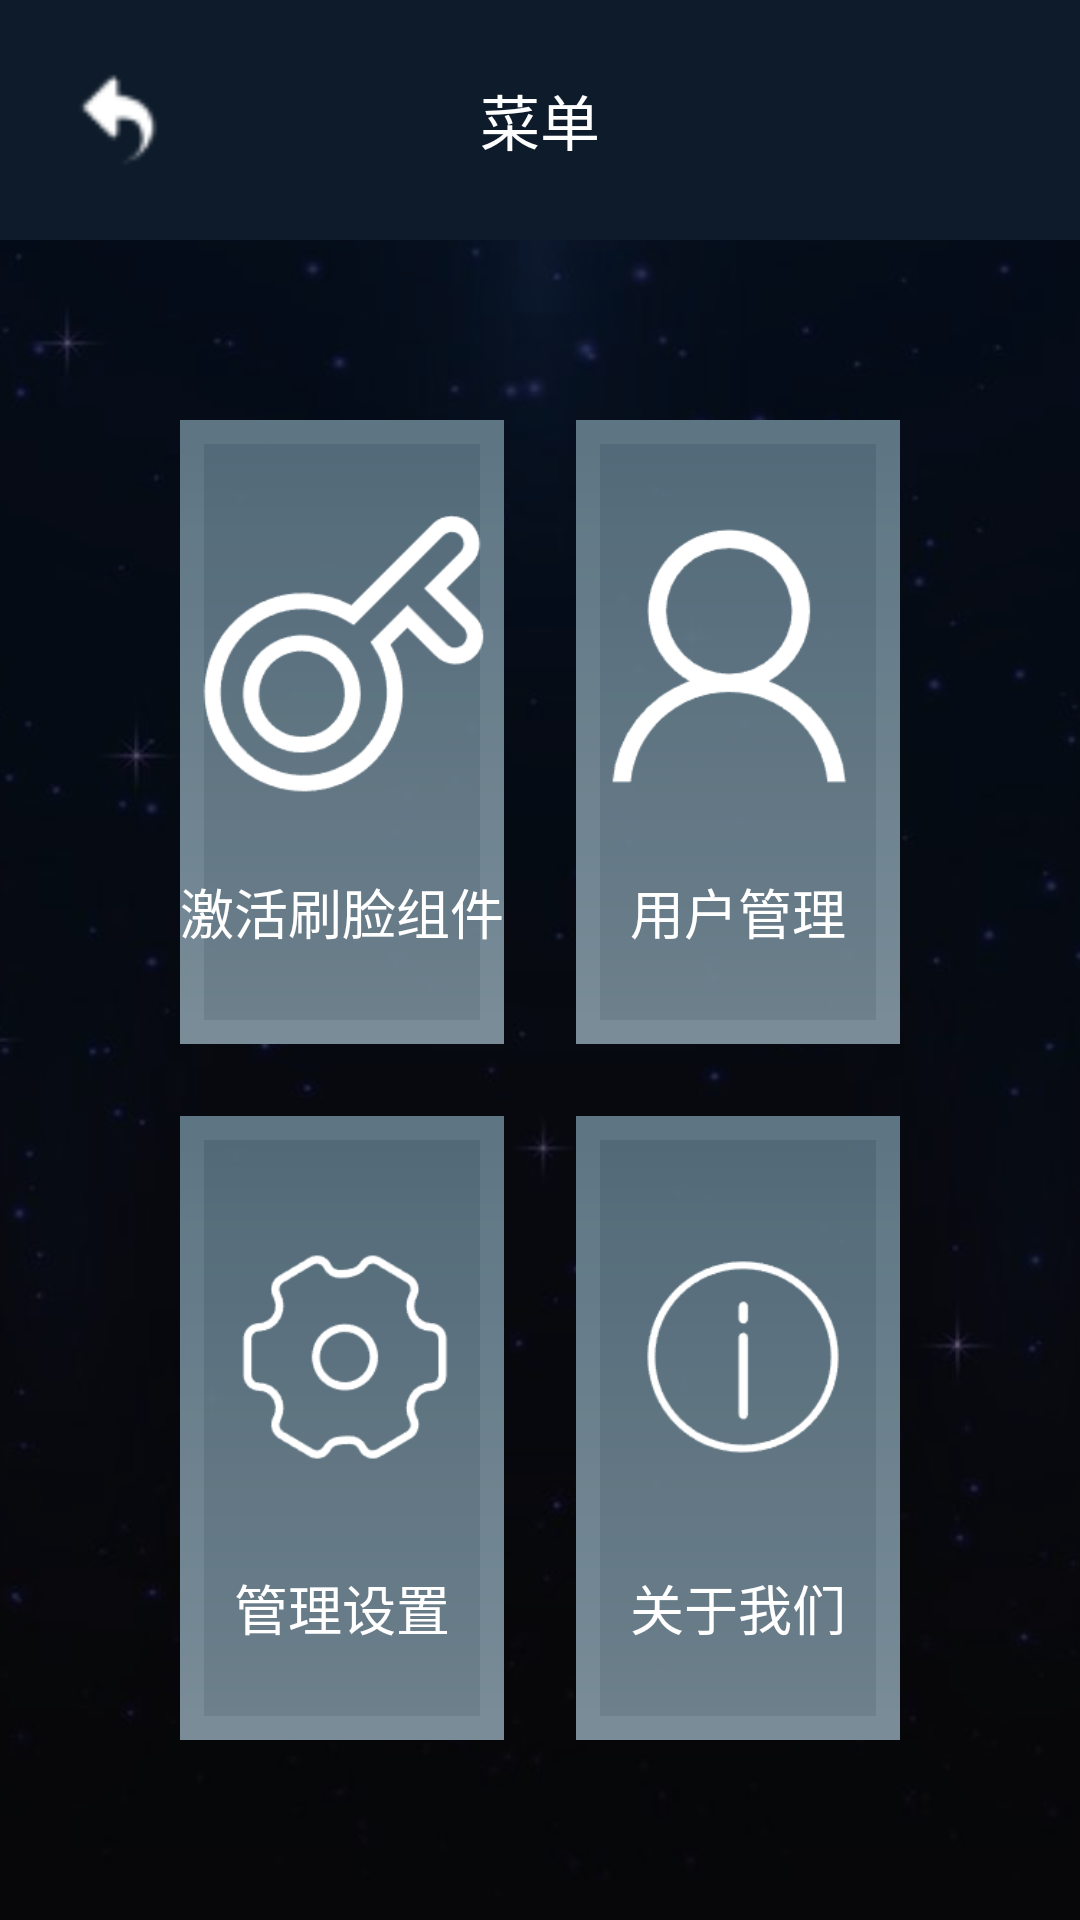

Where to tap for icons on this 1080x1920 app screen, as (x,y):
返回: (119,117)
